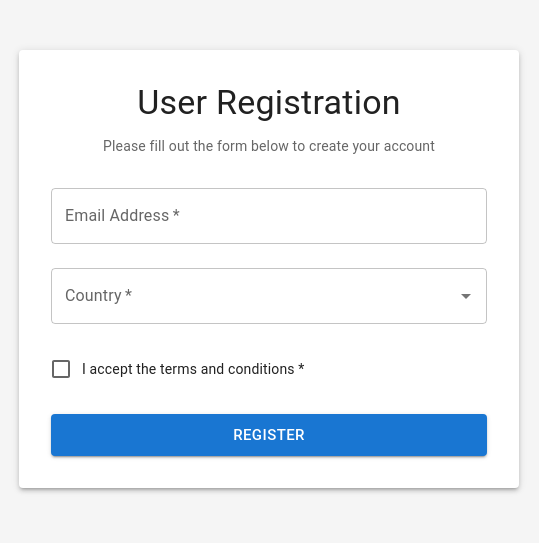
it: App Component › Form Validation › should show all validation errors when submitting empty form
Click the button with test id "submit-button" at coordinates (269, 435), box x1=51 y1=414 x2=487 y2=456
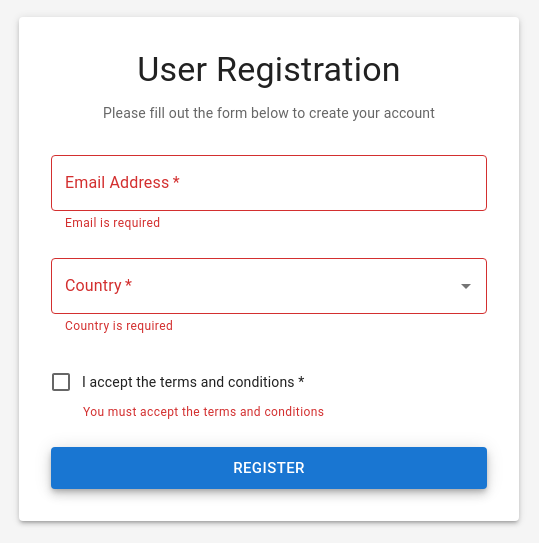
Expected: the text "Email is required" is shown, x1=65 y1=216 x2=160 y2=230
Expected: the text "Country is required" is shown, x1=65 y1=319 x2=173 y2=333
Expected: the text "You must accept the terms and conditions" is shown, x1=83 y1=405 x2=324 y2=419
